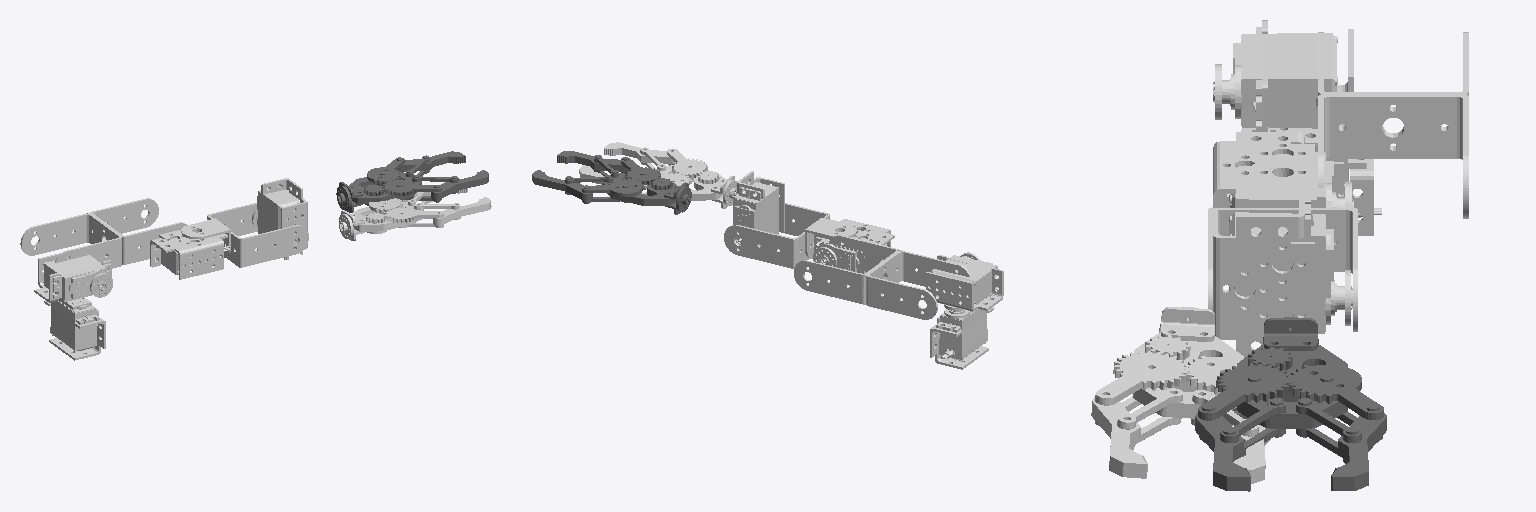
URDF robot description (manipulator_description):
<?xml version="1.0" encoding="utf-8"?>
<!-- This URDF was automatically created by SolidWorks to URDF Exporter! Originally created by Stephen Brawner (brawner@gmail.com)
     Commit Version: 1.6.0-4-g7f85cfe  Build Version: 1.6.7995.38578
     For more information, please see http://wiki.ros.org/sw_urdf_exporter -->
<robot
  name="manipulator_description">
  <!-- TODO: joint limits are unverified +/-90 deg placeholders; measure real mechanical travel before driving hardware -->
  <link
    name="base_link">
    <inertial>
      <origin
        xyz="0.0343639408282917 0.00804469576063952 -0.016409264226274"
        rpy="0 0 0" />
      <mass
        value="0.0382070631949754" />
      <inertia
        ixx="1.06084491676467E-05"
        ixy="-3.2679090039028E-10"
        ixz="-1.55715035338204E-07"
        iyy="6.05895904112997E-06"
        iyz="-1.70232643106748E-08"
        izz="7.32724940736577E-06" />
    </inertial>
    <visual>
      <origin
        xyz="0 0 0"
        rpy="0 0 0" />
      <geometry>
        <mesh
          filename="package://manipulator_description/meshes/visual/base_link.STL" />
      </geometry>
      <material
        name="">
        <color
          rgba="0.894117647058823 0.894117647058823 0.894117647058823 1" />
      </material>
    </visual>
    <collision>
      <origin
        xyz="0.034427 0.009166 -0.014535"
        rpy="0 0 0" />
      <geometry>
        <box
          size="0.025000 0.062100 0.052300" />
      </geometry>
    </collision>
  </link>
  <link
    name="link_1">
    <inertial>
      <origin
        xyz="0.000506046615463052 -0.10691496728628537 0.0122755959836566"
        rpy="0 0 0" />
      <mass
        value="0.0382070631949755" />
      <inertia
        ixx="6.05895904112999E-06"
        ixy="3.2679090043482E-10"
        ixz="-1.70232643106698E-08"
        iyy="1.06084491676467E-05"
        iyz="1.55715035338171E-07"
        izz="7.32724940736576E-06" />
    </inertial>
    <visual>
      <origin
        xyz="0 -0.1 0"
        rpy="0 0 0" />
      <geometry>
        <mesh
          filename="package://manipulator_description/meshes/visual/link_1.STL" />
      </geometry>
      <material
        name="">
        <color
          rgba="0.894117647058823 0.894117647058823 0.894117647058823 1" />
      </material>
    </visual>
    <collision>
      <origin
        xyz="0.001627 -0.106978 0.014150"
        rpy="0 0 0" />
      <geometry>
        <box
          size="0.062100 0.025000 0.052300" />
      </geometry>
    </collision>
  </link>
  <joint
    name="joint_1"
    type="revolute">
    <origin
      xyz="0.033234610921751 0.0176157607917091 0.1310932914551162"
      rpy="1.5707963267949 0 0" />
    <parent
      link="base_link" />
    <child
      link="link_1" />
    <axis
      xyz="0 -1 0" />
    <limit
      lower="-1.5708"
      upper="1.5708"
      effort="1.5"
      velocity="3.0" />
  </joint>
  <link
    name="link_2">
    <inertial>
      <origin
        xyz="0.0620706269890061 -0.00578563831106663 0.0141591323242891"
        rpy="0 0 0" />
      <mass
        value="0.0170251169263653" />
      <inertia
        ixx="1.08907010787335E-05"
        ixy="-3.11047077367631E-08"
        ixz="-2.31610571514848E-21"
        iyy="1.68733569095532E-05"
        iyz="1.0765747594442E-21"
        izz="7.85969468178106E-06" />
    </inertial>
    <visual>
      <origin
        xyz="0 0 0"
        rpy="0 0 0" />
      <geometry>
        <mesh
          filename="package://manipulator_description/meshes/visual/link_2.STL" />
      </geometry>
      <material
        name="">
        <color
          rgba="0.894117647058823 0.894117647058823 0.894117647058823 1" />
      </material>
    </visual>
    <collision>
      <origin
        xyz="0.062071 -0.005786 0.014151"
        rpy="0 0 0" />
      <geometry>
        <box
          size="0.129974 0.026000 0.056002" />
      </geometry>
    </collision>
  </link>
  <joint
    name="joint_2"
    type="revolute">
    <origin
      xyz="0 -0.1 0"
      rpy="0 0 0" />
    <parent
      link="link_1" />
    <child
      link="link_2" />
    <axis
      xyz="0 0 -1" />
    <limit
      lower="-1.5708"
      upper="1.5708"
      effort="1.5"
      velocity="3.0" />
  </joint>
  <link
    name="link_3">
    <inertial>
      <origin
        xyz="0.00145033630413155 -0.00137973727910012 -0.0156275288663928"
        rpy="0 0 0" />
      <mass
        value="0.0494773487894259" />
      <inertia
        ixx="1.18336660189981E-05"
        ixy="-1.24373046667322E-07"
        ixz="-1.86477617019415E-08"
        iyy="1.954406916305E-05"
        iyz="1.55737377757556E-07"
        izz="1.17899796886126E-05" />
    </inertial>
    <visual>
      <origin
        xyz="0 0 0"
        rpy="0 0 0" />
      <geometry>
        <mesh
          filename="package://manipulator_description/meshes/visual/link_3.STL" />
      </geometry>
      <material
        name="">
        <color
          rgba="0.894117647058823 0.894117647058823 0.894117647058823 1" />
      </material>
    </visual>
    <collision>
      <origin
        xyz="0.025220 -0.001193 -0.014272"
        rpy="0 0 0" />
      <geometry>
        <box
          size="0.129440 0.029000 0.056002" />
      </geometry>
    </collision>
  </link>
  <joint
    name="joint_3"
    type="revolute">
    <origin
      xyz="0.114064142331481 -0.00578563924239672 0"
      rpy="3.14159265358979 0 0" />
    <parent
      link="link_2" />
    <child
      link="link_3" />
    <axis
      xyz="0 0 -1" />
    <limit
      lower="-1.5708"
      upper="1.5708"
      effort="1.5"
      velocity="3.0" />
  </joint>
  <link
    name="link_4">
    <inertial>
      <origin
        xyz="0.00112932990654024 -0.00957106503107541 -0.0161449114265881"
        rpy="0 0 0" />
      <mass
        value="0.0382070631949756" />
      <inertia
        ixx="1.06084491676467E-05"
        ixy="-3.26790900335419E-10"
        ixz="-1.5571503533817E-07"
        iyy="6.05895904113E-06"
        iyz="-1.70232643106725E-08"
        izz="7.32724940736578E-06" />
    </inertial>
    <visual>
      <origin
        xyz="0 0 0"
        rpy="0 0 0" />
      <geometry>
        <mesh
          filename="package://manipulator_description/meshes/visual/link_4.STL" />
      </geometry>
      <material
        name="">
        <color
          rgba="0.894117647058823 0.894117647058823 0.894117647058823 1" />
      </material>
    </visual>
    <collision>
      <origin
        xyz="0.001193 -0.008450 -0.014271"
        rpy="0 0 0" />
      <geometry>
        <box
          size="0.025000 0.062100 0.052300" />
      </geometry>
    </collision>
  </link>
  <joint
    name="joint_4"
    type="revolute">
    <origin
      xyz="0.0769466080330323 0.000270600277847829 0"
      rpy="0 0 0" />
    <parent
      link="link_3" />
    <child
      link="link_4" />
    <axis
      xyz="0 0 1" />
    <limit
      lower="-1.5708"
      upper="1.5708"
      effort="1.5"
      velocity="3.0" />
  </joint>
  <link
    name="link_5">
    <inertial>
      <origin
        xyz="-0.0041358771479433 0.0288337869208946 -0.00285849985151054"
        rpy="0 0 0" />
      <mass
        value="0.037335901811192" />
      <inertia
        ixx="1.05850951684802E-05"
        ixy="-3.26790897790868E-10"
        ixz="-1.55715035337862E-07"
        iyy="6.03560504196298E-06"
        iyz="-1.70232643103978E-08"
        izz="7.28302147533166E-06" />
    </inertial>
    <visual>
      <origin
        xyz="0 0 0"
        rpy="0 0 0" />
      <geometry>
        <mesh
          filename="package://manipulator_description/meshes/visual/link_5.STL" />
      </geometry>
      <material
        name="">
        <color
          rgba="0.894117647058823 0.894117647058823 0.894117647058823 1" />
      </material>
    </visual>
    <collision>
      <origin
        xyz="-0.004099 0.030178 -0.001736"
        rpy="0 0 0" />
      <geometry>
        <box
          size="0.025000 0.062100 0.049600" />
      </geometry>
    </collision>
  </link>
  <joint
    name="joint_5"
    type="fixed">
    <origin
      xyz="0.0402287022055454 -0.00590115589768424 -0.0500488836179223"
      rpy="1.5707963267949 0 1.5707963267949" />
    <parent
      link="link_4" />
    <child
      link="link_5" />
  </joint>
  <link
    name="end_effector">
    <inertial>
      <origin
        xyz="-0.000520632559221107 -0.000297558030083852 0.0577395076620401"
        rpy="0 0 0" />
      <mass
        value="0.0268863153129508" />
      <inertia
        ixx="7.16843100504781E-06"
        ixy="-2.16048125745941E-18"
        ixz="-1.45204535114321E-17"
        iyy="5.41074299136263E-06"
        iyz="6.95119128869688E-08"
        izz="1.95010952707155E-06" />
    </inertial>
    <visual>
      <origin
        xyz="0 0 0"
        rpy="0 0 0" />
      <geometry>
        <mesh
          filename="package://manipulator_description/meshes/visual/end_effector_link.STL" />
      </geometry>
      <material
        name="">
        <color
          rgba="0.498039215686275 0.498039215686275 0.498039215686275 1" />
      </material>
    </visual>
    <collision>
      <origin
        xyz="0.000000 0.000096 0.064127"
        rpy="0 0 0" />
      <geometry>
        <box
          size="0.022000 0.071245 0.128253" />
      </geometry>
    </collision>
  </link>
  <joint
    name="end_effector_joint"
    type="revolute">
    <origin
      xyz="-0.00529155779347541 0.0386281743267465 0.0195640152123876"
      rpy="0 0 0" />
    <parent
      link="link_5" />
    <child
      link="end_effector" />
    <axis
      xyz="0 0 1" />
    <limit
      lower="-1.5708"
      upper="1.5708"
      effort="1.5"
      velocity="3.0" />
  </joint>
</robot>

--- Facts derived from the render (not from the file) ---
3 views of the same robot in one strip: view 1: azimuth 30°, elevation 25°; view 2: azimuth 150°, elevation 25°; view 3: azimuth 270°, elevation 25° (orthographic).
Model manipulator_description with 7 links and 6 joints (5 revolute, 1 fixed), rooted at base_link, posed every joint at zero.
Visible links, largest first — view 1: link_3, link_2, end_effector, link_5, link_1, base_link, link_4; view 2: link_2, link_3, end_effector, link_5, link_1, base_link, link_4; view 3: end_effector, link_4, link_5, link_3, link_2, link_1, base_link.
Boxes of the visible links, x1,y1,x2,y2 form: link_3: (150,203,308,279); link_2: (20,198,186,268); end_effector: (336,151,488,212); link_5: (339,188,491,240); link_1: (34,253,112,302); base_link: (44,297,105,360); link_4: (252,178,307,259); link_2: (794,235,970,319); link_3: (724,203,894,273); end_effector: (532,151,691,214); link_5: (579,142,737,208); link_1: (926,252,1003,311); base_link: (930,305,993,369); link_4: (733,171,784,249); end_effector: (1195,317,1386,491); link_4: (1213,190,1352,357); link_5: (1091,307,1270,483); link_3: (1208,132,1357,331); link_2: (1318,32,1468,218); link_1: (1213,20,1353,146); base_link: (1219,128,1381,242).
Bounding box of the posed robot: 0.4085 × 0.1405 × 0.1052 m (x, y, z).
7 mesh visuals loaded from 7 distinct referenced files (7 binary STL).
